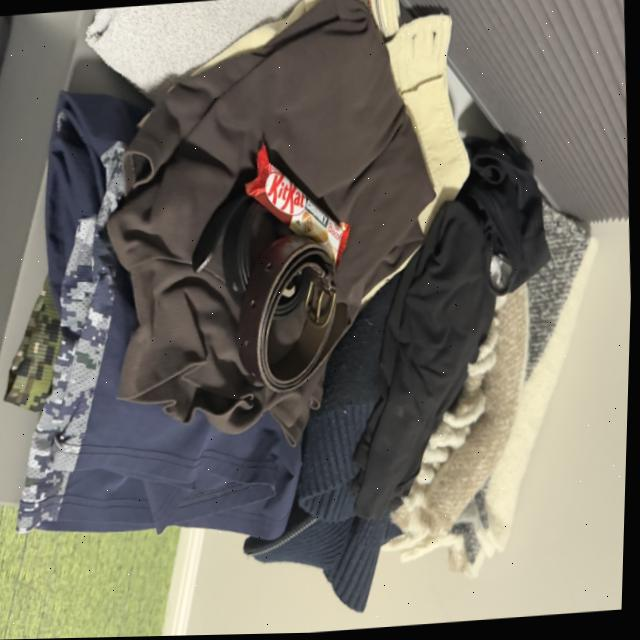chocolate: (239, 133, 359, 273)
